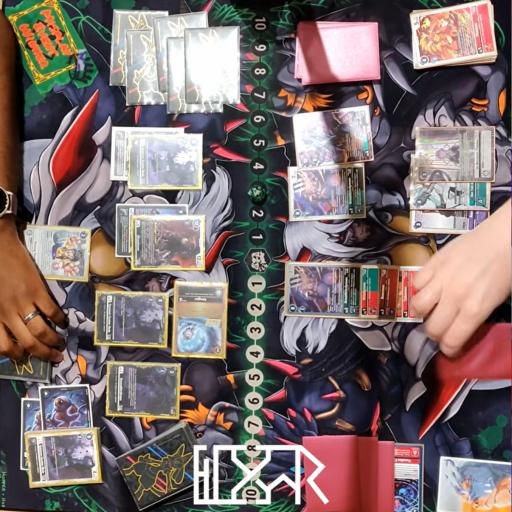card: (410, 0, 497, 72), (290, 103, 376, 170), (287, 159, 367, 222), (414, 126, 498, 182), (92, 290, 170, 349), (285, 259, 363, 318), (173, 280, 230, 360), (132, 216, 210, 272), (114, 202, 188, 260), (25, 429, 103, 484), (126, 134, 204, 189), (20, 223, 91, 283), (108, 362, 182, 418), (110, 127, 182, 182), (38, 387, 95, 444), (408, 174, 492, 209), (408, 200, 494, 234), (391, 442, 426, 512), (18, 398, 50, 472), (398, 262, 428, 325), (359, 260, 381, 323), (379, 262, 400, 324)
